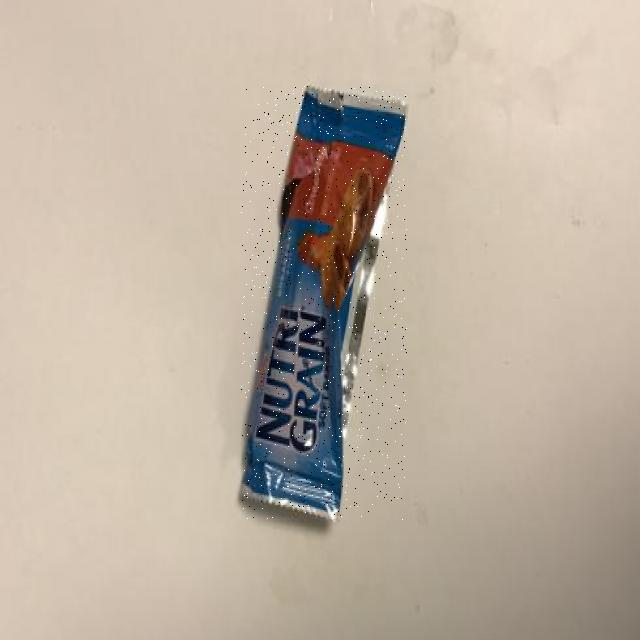wrapper: (241, 87, 407, 520)
